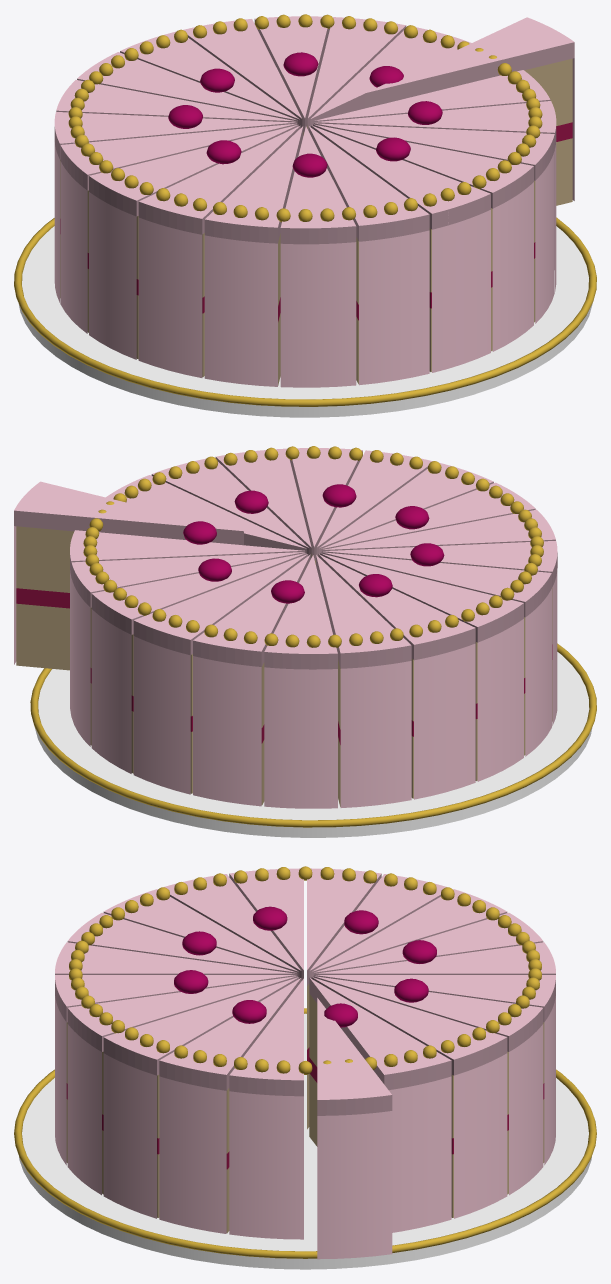
Rendered from torta-30cm-11alto-1p-20porc-rosa.glb.
3 views of the same model, one above another, from view 1: azimuth 30°, elevation 25°; view 2: azimuth 150°, elevation 25°; view 3: azimuth 270°, elevation 25° (orthographic). The views are drawn at different scales.
Size of the model in its own units: 0.3814 by 0.1316 by 0.365.
